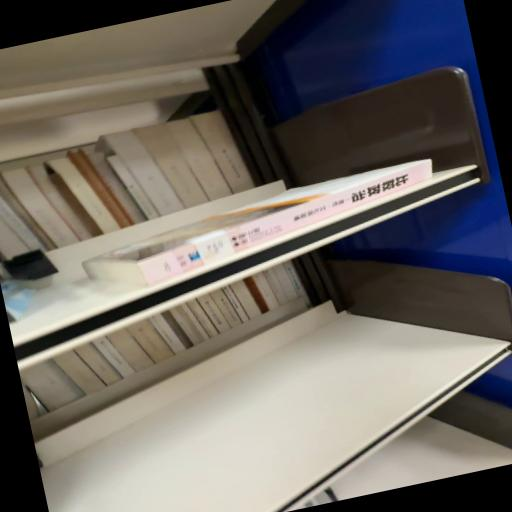flat: (83, 160, 433, 286)
